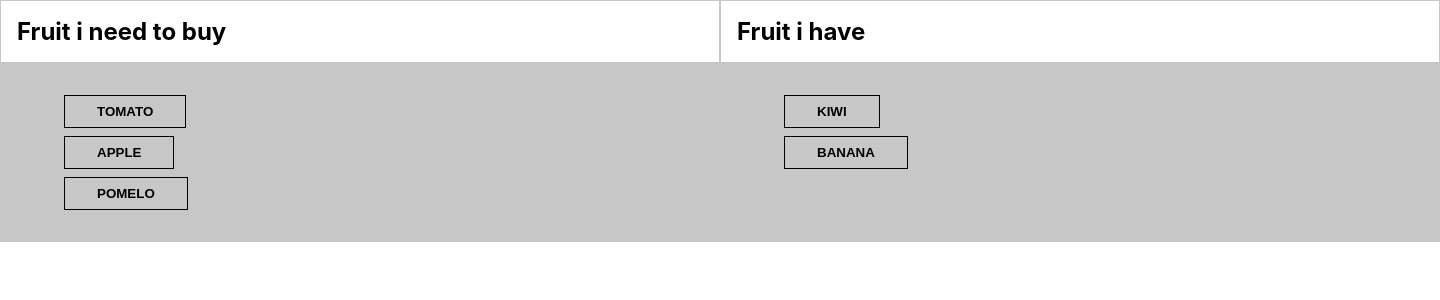
it: click on B list element remove it from list B and add to list A
Click the button "kiwi".
click(832, 112)  # box [784,95,880,128]
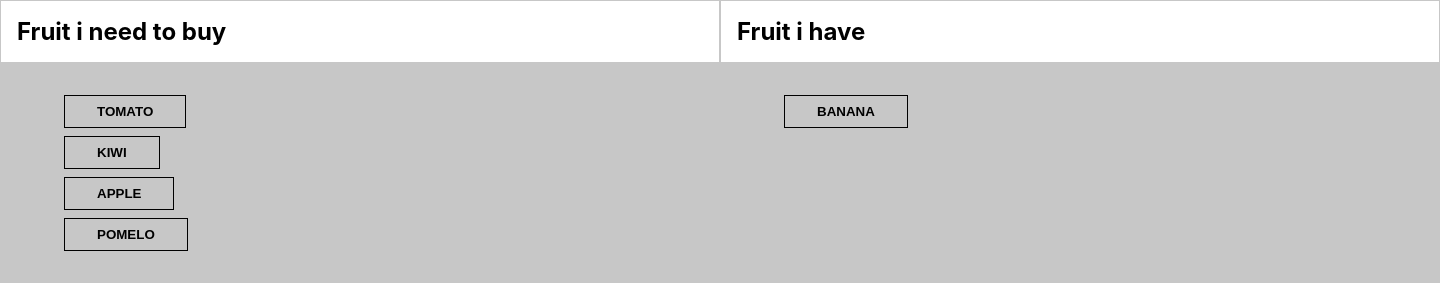
Expected: the list items read "tomato", "kiwi", "apple", "pomelo", in this order, [64,95,186,128]; [64,136,160,169]; [64,177,174,210]; [64,218,188,251]
Expected: the list items read "banana", in this order, [784,95,908,128]
